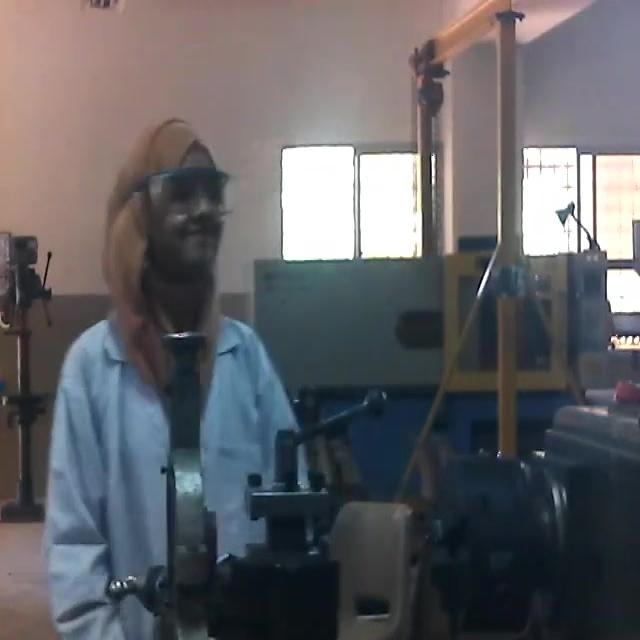googles: (140, 160, 245, 222)
labcoat: (51, 304, 316, 640)
